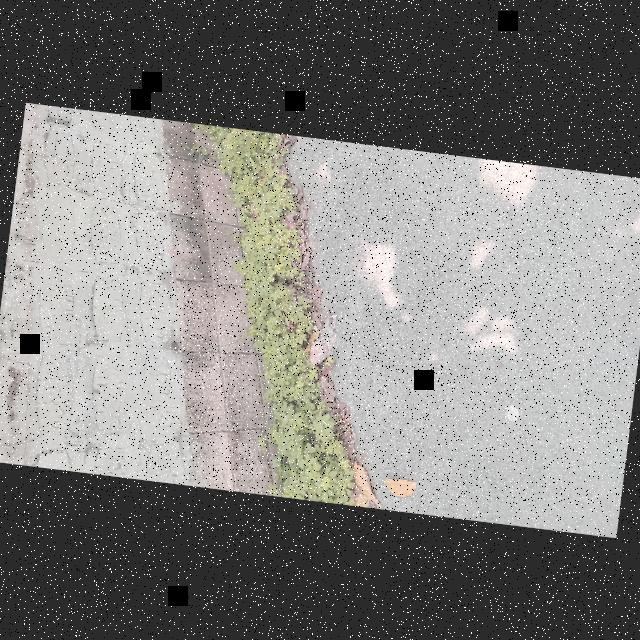plastic_bag: (305, 310, 344, 375)
